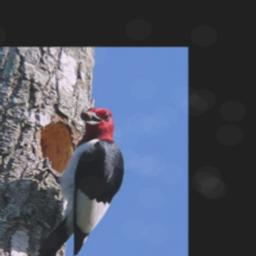Woodpecker: (29, 96, 127, 256)
